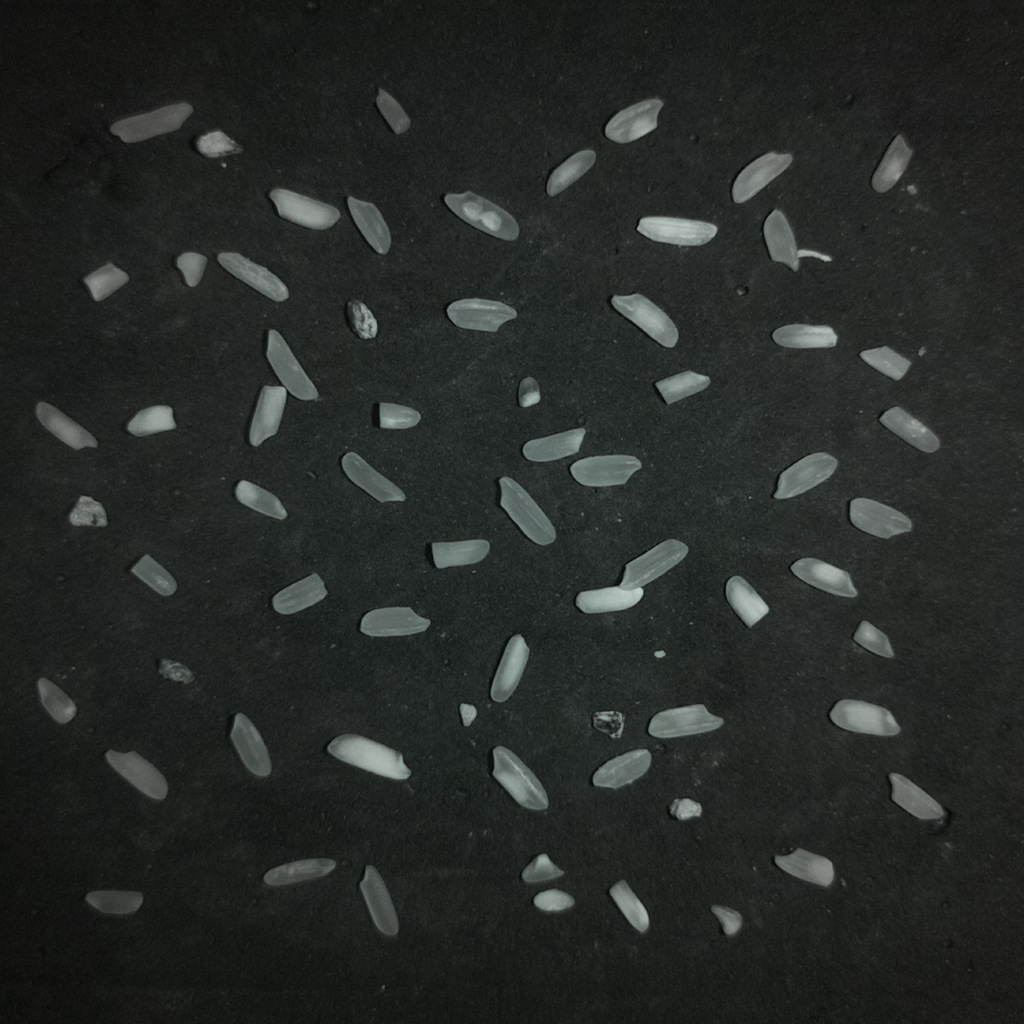broken: (272, 573, 327, 615), (130, 554, 177, 596), (431, 539, 489, 567)
chalky: (327, 734, 410, 780), (610, 293, 678, 347), (492, 746, 548, 810), (444, 192, 518, 240), (218, 253, 288, 301), (731, 152, 792, 203), (268, 188, 340, 229), (35, 402, 97, 449), (829, 699, 900, 737), (604, 98, 663, 143), (490, 634, 529, 702), (791, 557, 856, 597), (648, 704, 723, 738), (636, 216, 716, 246), (871, 134, 911, 193), (248, 385, 286, 446), (773, 848, 833, 886), (546, 149, 595, 195), (725, 576, 768, 626), (609, 880, 649, 933), (263, 858, 334, 887), (234, 480, 286, 519), (36, 677, 76, 724), (575, 586, 643, 613), (654, 371, 709, 404), (82, 263, 129, 300), (859, 346, 910, 380), (772, 324, 837, 348), (126, 405, 175, 436), (853, 621, 893, 658), (193, 129, 243, 158), (521, 853, 564, 883), (175, 251, 207, 287), (378, 402, 420, 429), (710, 905, 742, 936), (533, 888, 574, 912), (517, 376, 540, 407), (459, 702, 477, 726)
foreign: (68, 495, 107, 527), (346, 299, 377, 339), (591, 711, 624, 738), (160, 659, 192, 682), (669, 798, 702, 820)
whole: (499, 477, 555, 545), (266, 330, 317, 400), (619, 539, 688, 589), (109, 102, 192, 142), (340, 452, 404, 502), (105, 751, 168, 800), (773, 452, 837, 499), (359, 865, 398, 936), (879, 407, 939, 453), (888, 773, 945, 820), (230, 713, 271, 777), (346, 197, 391, 254), (849, 497, 911, 538), (591, 748, 651, 789), (446, 298, 516, 332), (522, 427, 585, 462), (570, 455, 640, 486), (360, 606, 430, 636), (764, 209, 798, 270), (375, 88, 410, 134), (85, 890, 143, 916)
